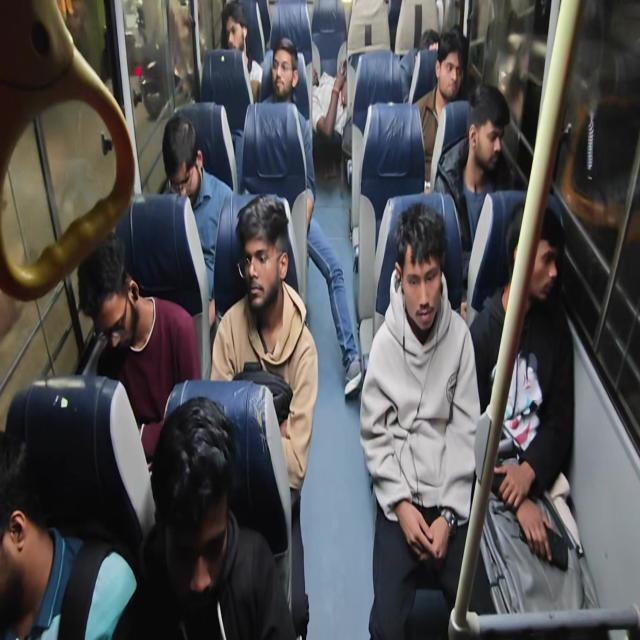person: (150, 400, 240, 618), (493, 199, 579, 302), (0, 417, 48, 600), (77, 234, 145, 354), (232, 193, 294, 311), (394, 198, 445, 335), (157, 114, 202, 202), (466, 81, 504, 178), (437, 28, 466, 108), (218, 0, 250, 68), (271, 38, 296, 108), (418, 24, 438, 55)
